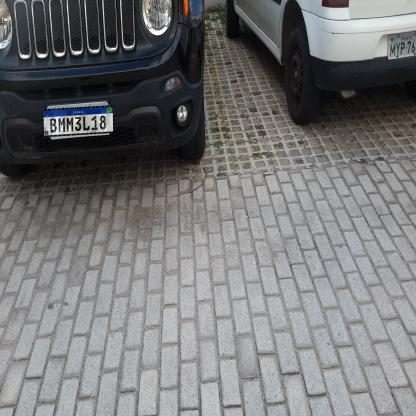PlacaM: (42, 105, 115, 137)
